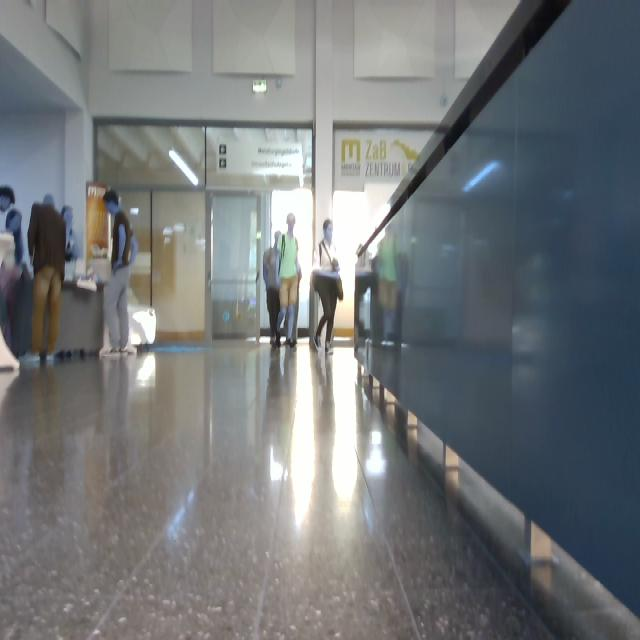banner: (335, 130, 432, 192)
desk: (56, 281, 104, 357)
door: (153, 193, 205, 340), (213, 196, 259, 340)
light bulb: (169, 150, 199, 186), (254, 80, 267, 93)
person: (29, 196, 66, 361), (102, 190, 137, 354), (312, 220, 344, 352), (277, 214, 302, 346), (264, 233, 281, 346), (1, 186, 24, 265), (63, 208, 79, 262), (1, 186, 15, 212)
staircase: (356, 1, 640, 640)
tiled floor: (1, 341, 640, 640)
